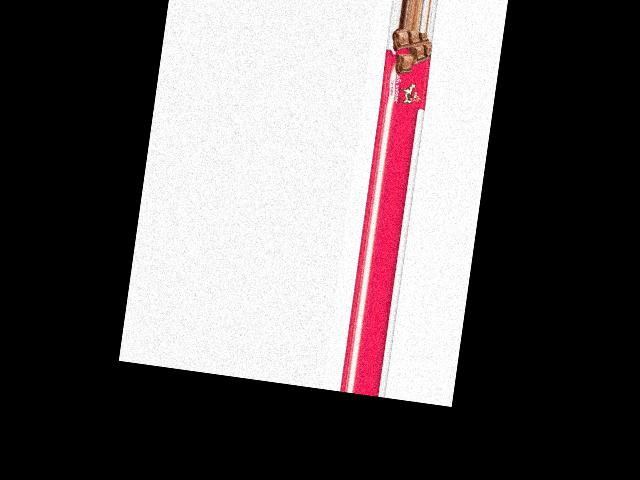chocolate: (378, 28, 434, 111)
